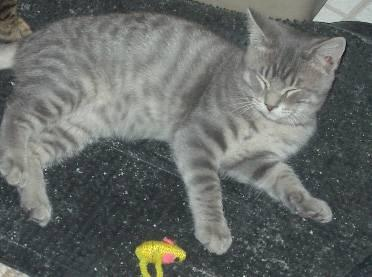cat: (0, 9, 344, 252)
